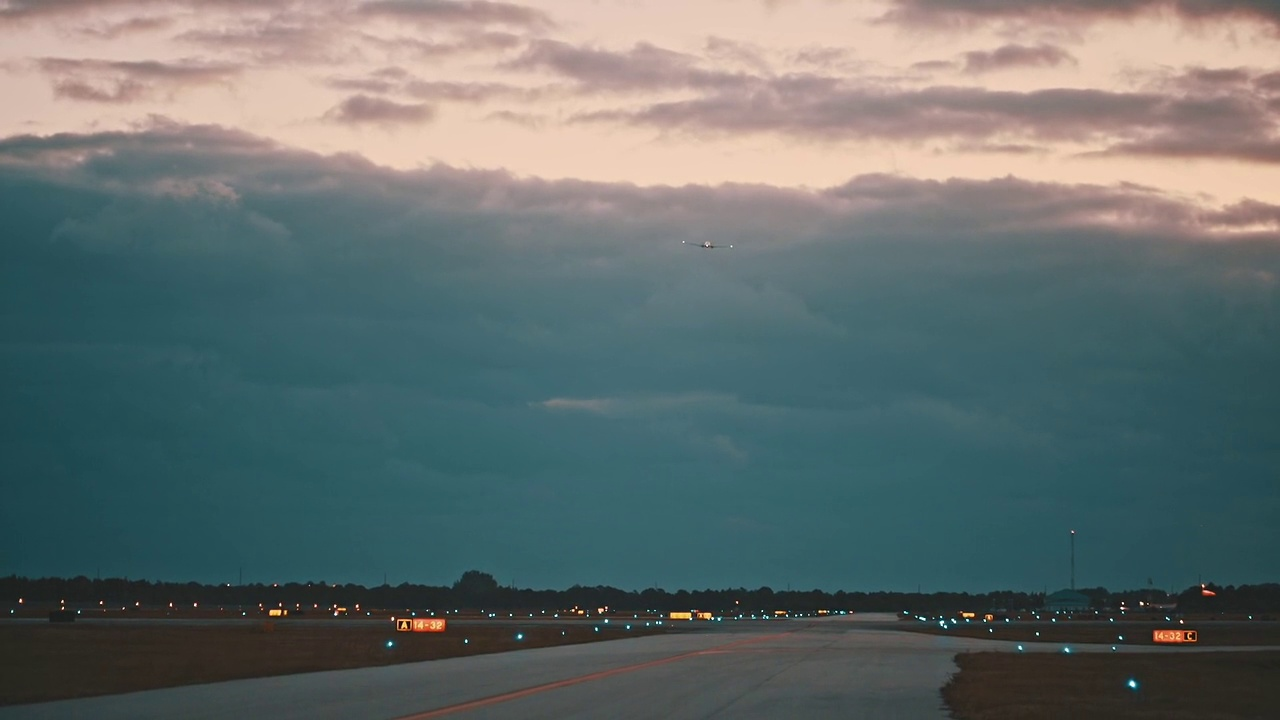plane: (681, 237, 732, 248)
